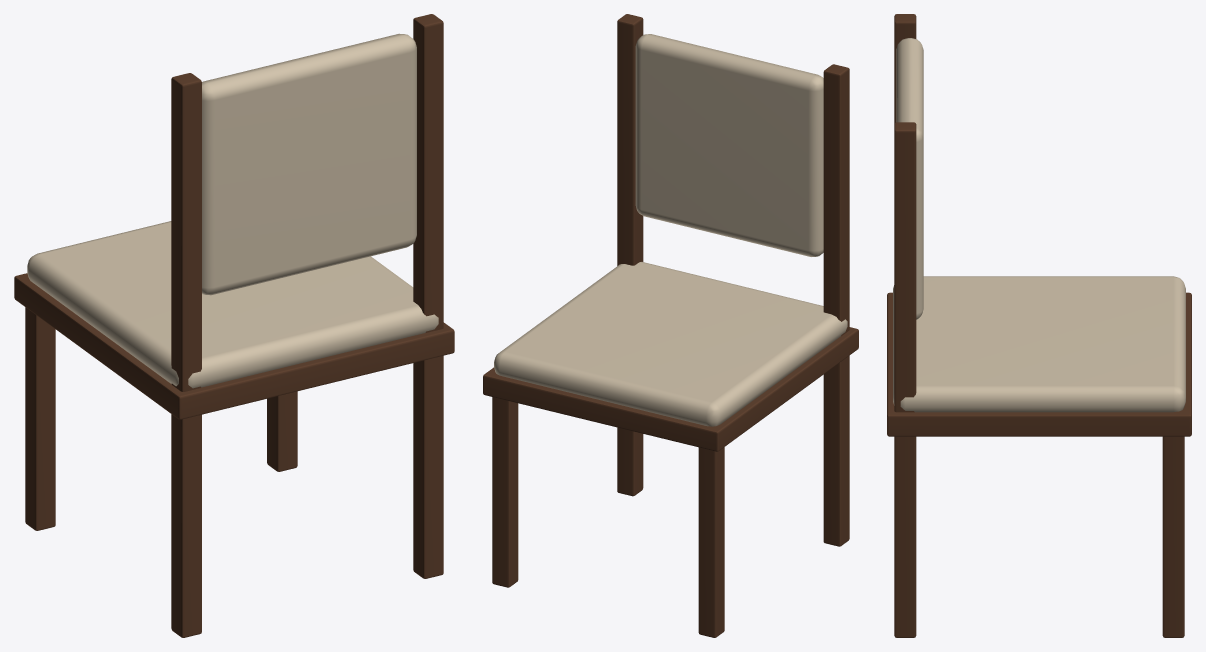
Rendered from prop_chair_consult.glb.
3 renders of one model, left to right at view 1: azimuth 30°, elevation 25°; view 2: azimuth 150°, elevation 25°; view 3: azimuth 270°, elevation 25°, orthographic. The views are drawn at different scales.
Visible parts, largest first — view 1: Chair; view 2: Chair; view 3: Chair.
Boxes of the visible parts, <box> form: Chair: <box>14,14,454,637</box>; Chair: <box>483,14,858,637</box>; Chair: <box>887,14,1191,637</box>.
Size of what is drawn, in the model's own units: 0.48 by 0.92 by 0.5.
